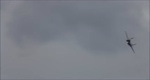maybay_muctieu: (125, 32, 138, 53)
